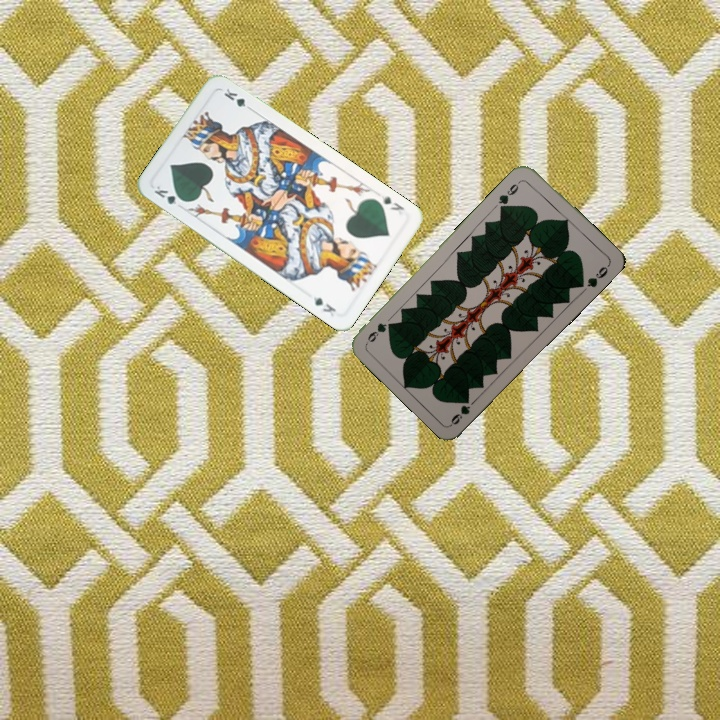G9: (494, 176, 524, 211), (447, 394, 473, 427)
GK: (150, 181, 188, 209), (376, 191, 407, 213)
